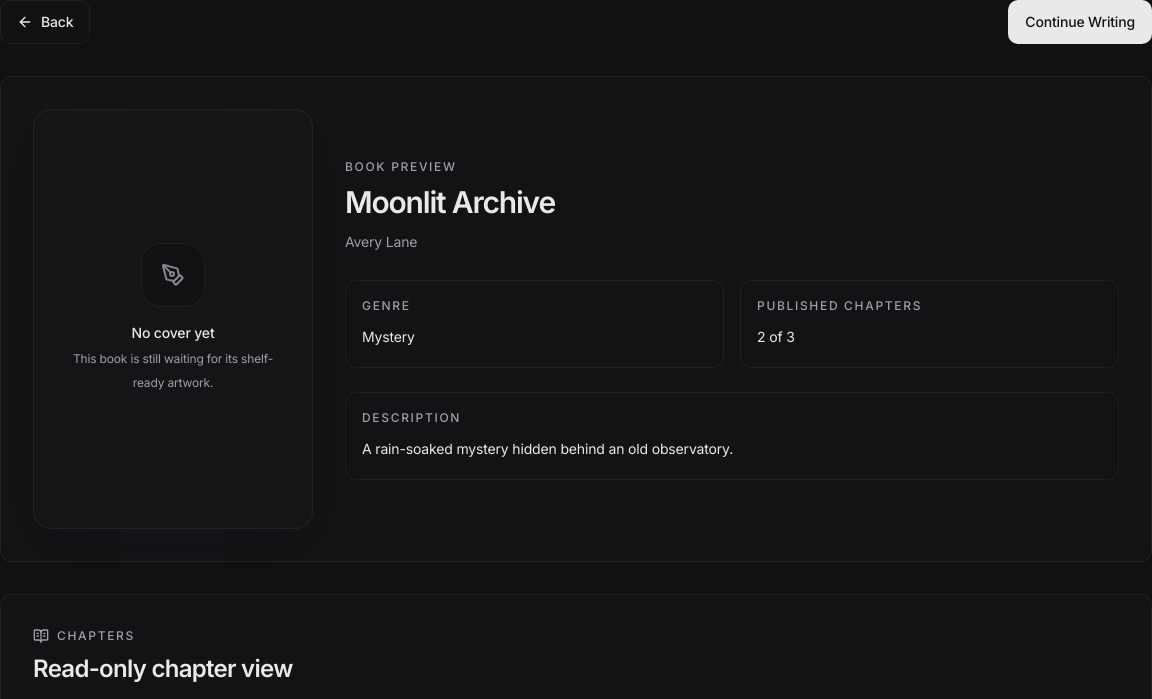
Test case: Writing preview routes › routes continue writing to the chapter list edit page
Click the button "Continue Writing": (1080, 22) x1=1008 y1=0 x2=1151 y2=44
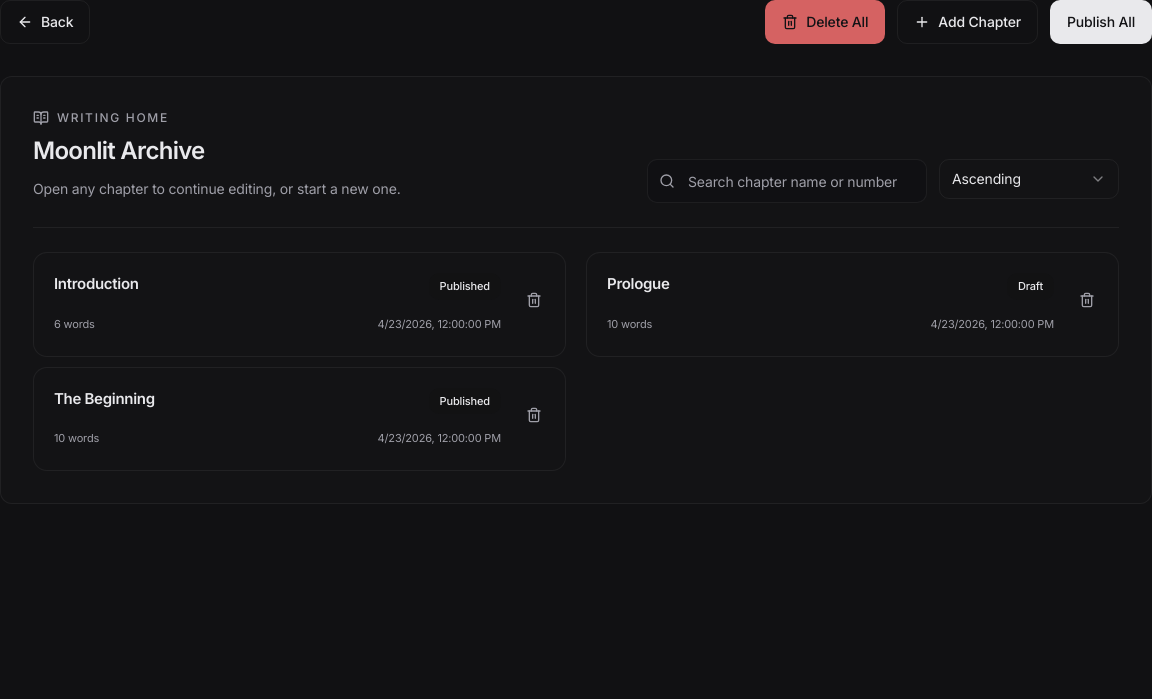
Expected: the heading "Moonlit Archive" is shown, x1=33 y1=136 x2=205 y2=165
Expected: the text "Writing Home" is shown, x1=57 y1=109 x2=169 y2=127
